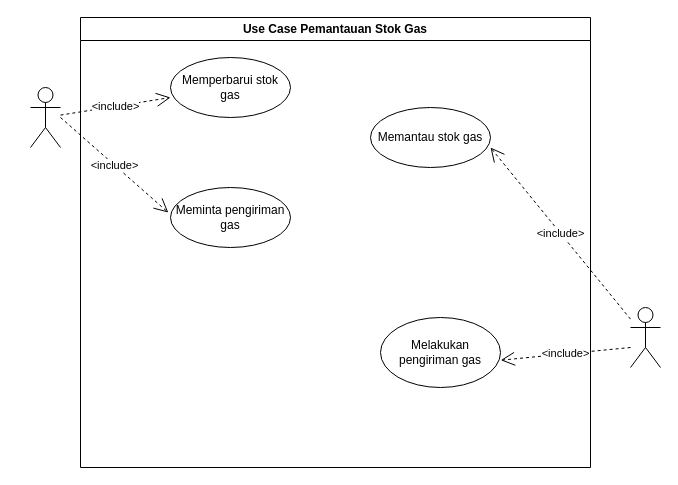
The diagram is 678 pixels wide and 485 high, and some of its shapes have lost their labels. The centre of each missing label's shape, as x and y in pixels:
"Agen" goes at [645,337].
"Pangkalan" goes at [45,117].
